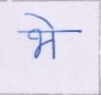e_matra: (23, 13, 58, 29)
